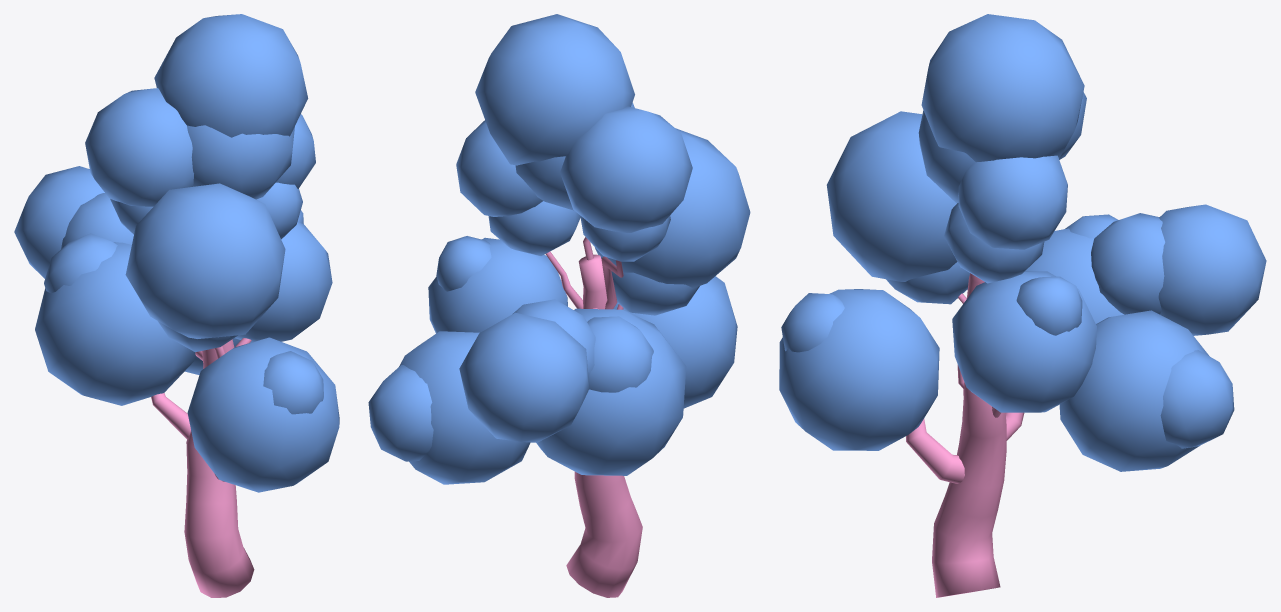
Rendered from ValeriaTree1.fbx.
The picture shows the model from 3 angles, left to right: view 1: azimuth 30°, elevation 25°; view 2: azimuth 150°, elevation 25°; view 3: azimuth 270°, elevation 25°; orthographic projection. The views are drawn at different scales.
Visible parts, largest first — view 1: merge1; view 2: merge1; view 3: merge1.
Boxes of the visible parts, x1,y1,x2,y2 form: merge1: [14, 14, 339, 597]; merge1: [368, 14, 750, 597]; merge1: [779, 14, 1266, 597].
Size of the model in its own units: 4.52 by 9.41 by 6.98.
